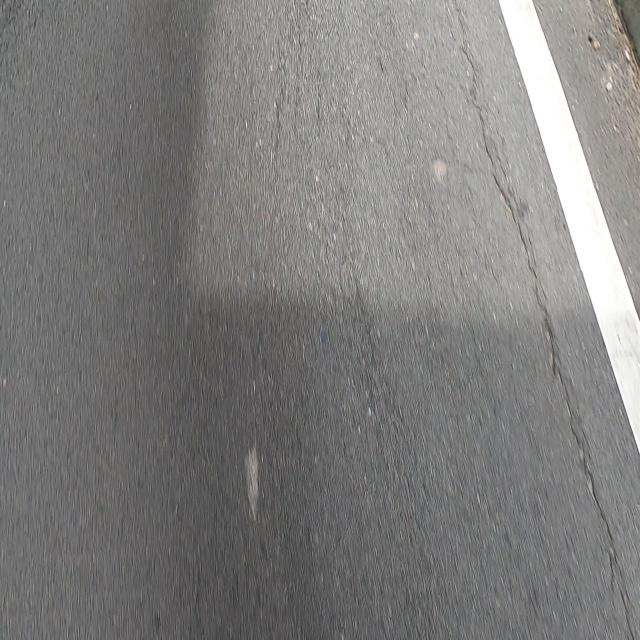Retak-Memanjang: (494, 182, 633, 640), (478, 109, 494, 165)
